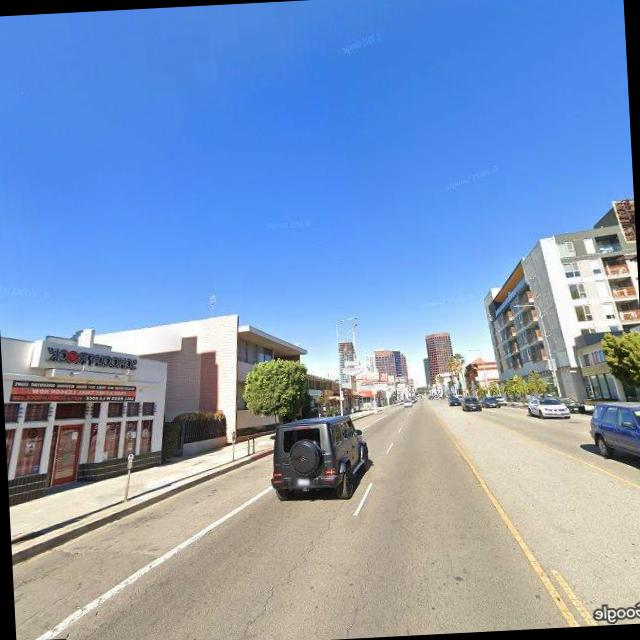pothole: (223, 512, 342, 640)
